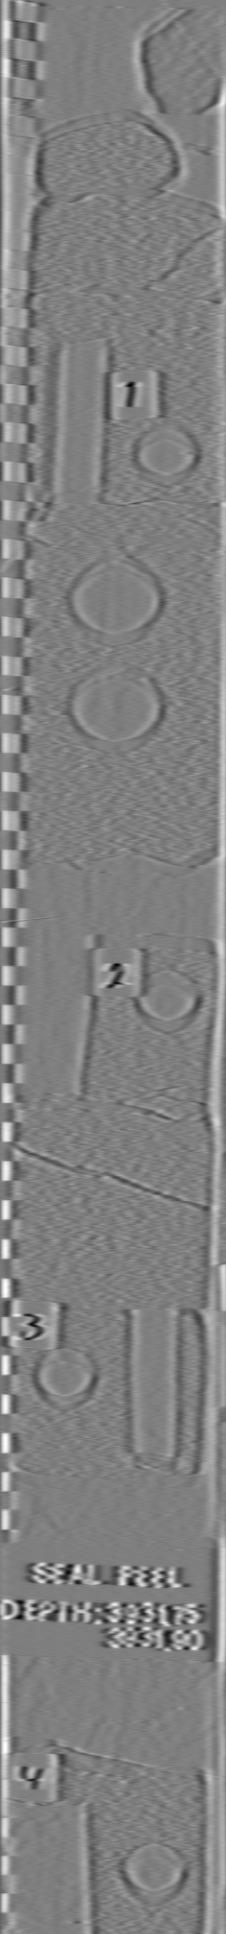hplug: (133, 968, 203, 1036), (132, 419, 200, 486), (120, 1841, 186, 1908), (31, 1348, 99, 1412)
scal: (67, 660, 164, 759), (67, 553, 164, 649)
vplug: (43, 326, 116, 508), (123, 1302, 182, 1473)
